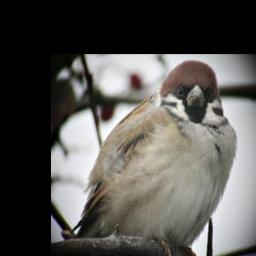Sparrow: (70, 60, 237, 256)
